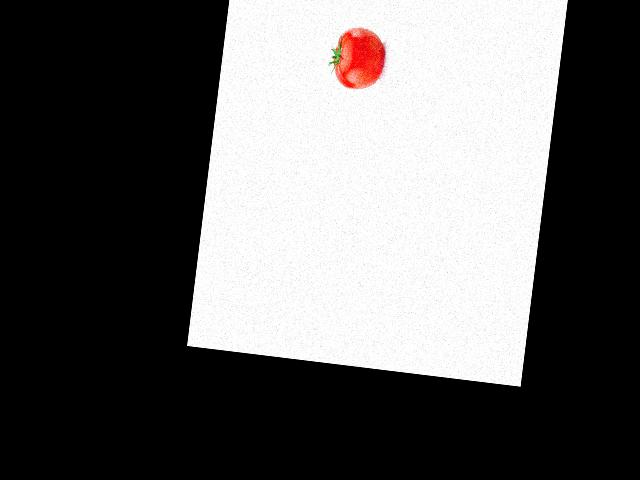tomato: (330, 25, 386, 92)
